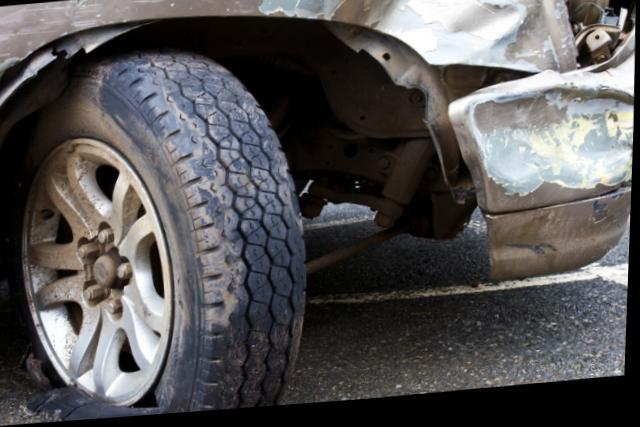dent: (471, 96, 635, 201), (361, 0, 526, 70)
no part: (564, 0, 636, 77)
tire flat: (9, 49, 310, 422)
